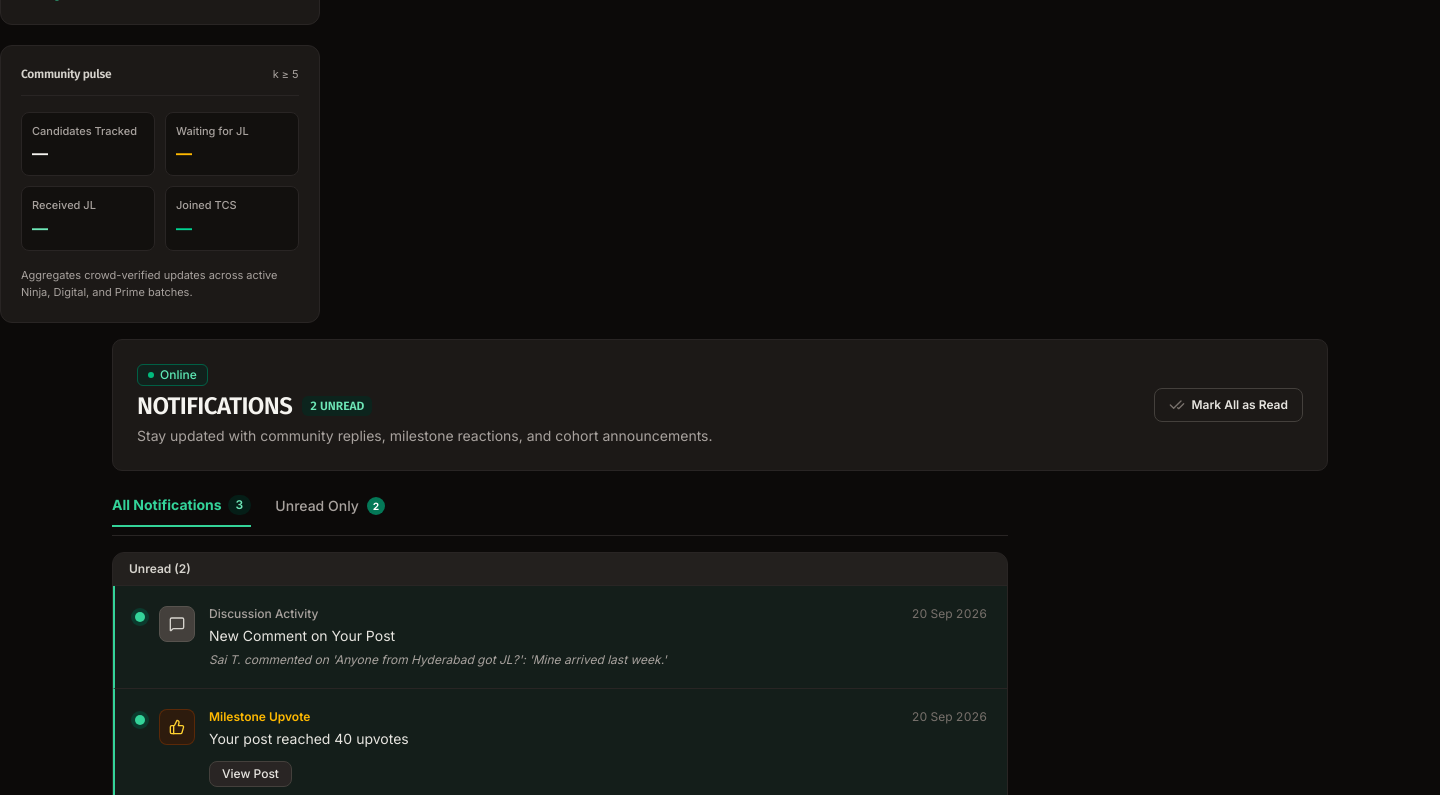
§7.10 NotificationsPage (notification_center composition) › zeroes the count, the badge source and the rows on Mark All as Read
The width and height of the screenshot is (1440, 795).
(page scrolled)
Click the button with test id "mark-all-read" at coordinates (1229, 405), box left=1154, top=388, right=1303, bottom=422
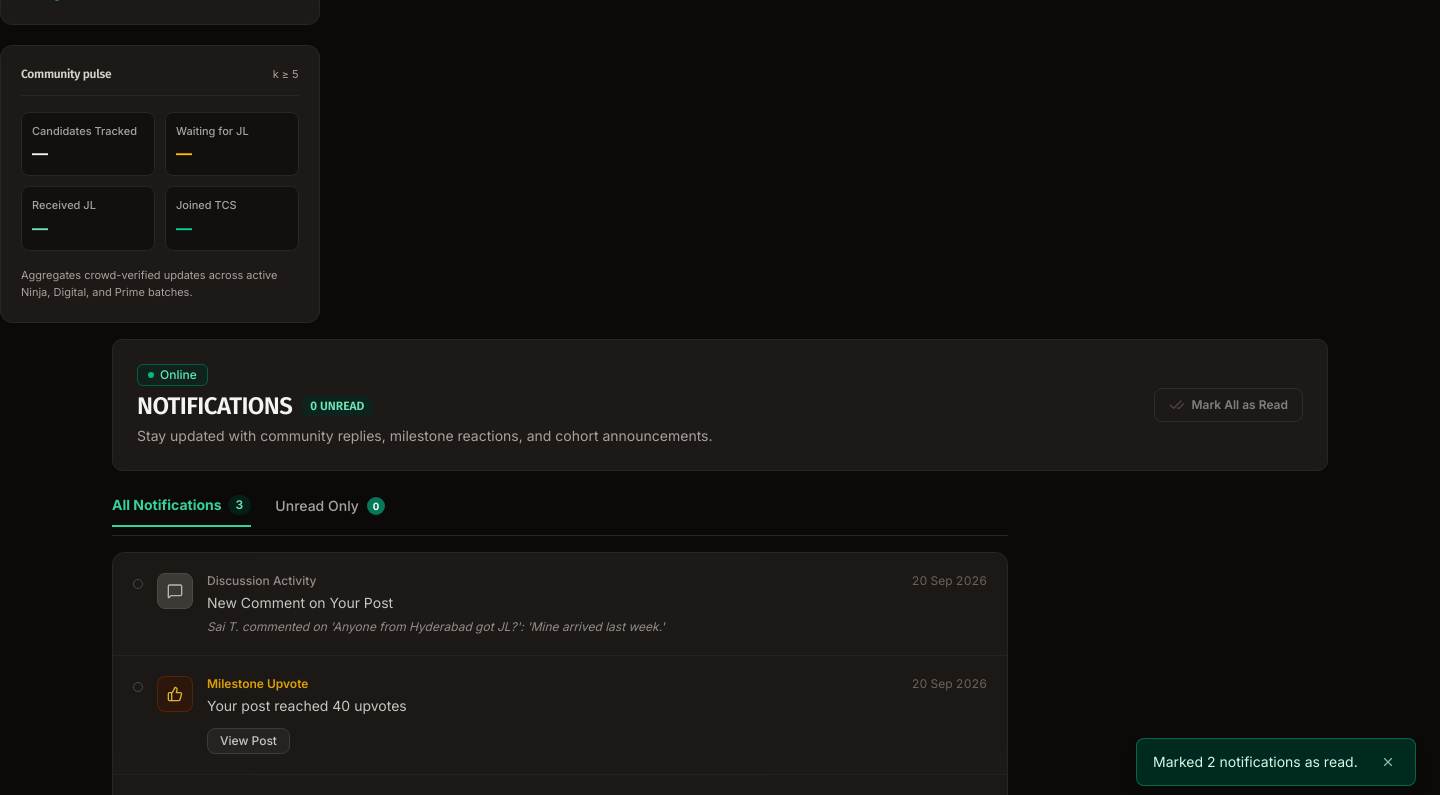
expect the text with test id "unread-pill" reads "0 UNREAD": met, box left=302, top=396, right=372, bottom=416
expect the button with test id "mark-all-read" is disabled: met, box left=1154, top=388, right=1303, bottom=422
expect the element with test id "marker-read-n1" is shown: met, box left=133, top=579, right=143, bottom=589
